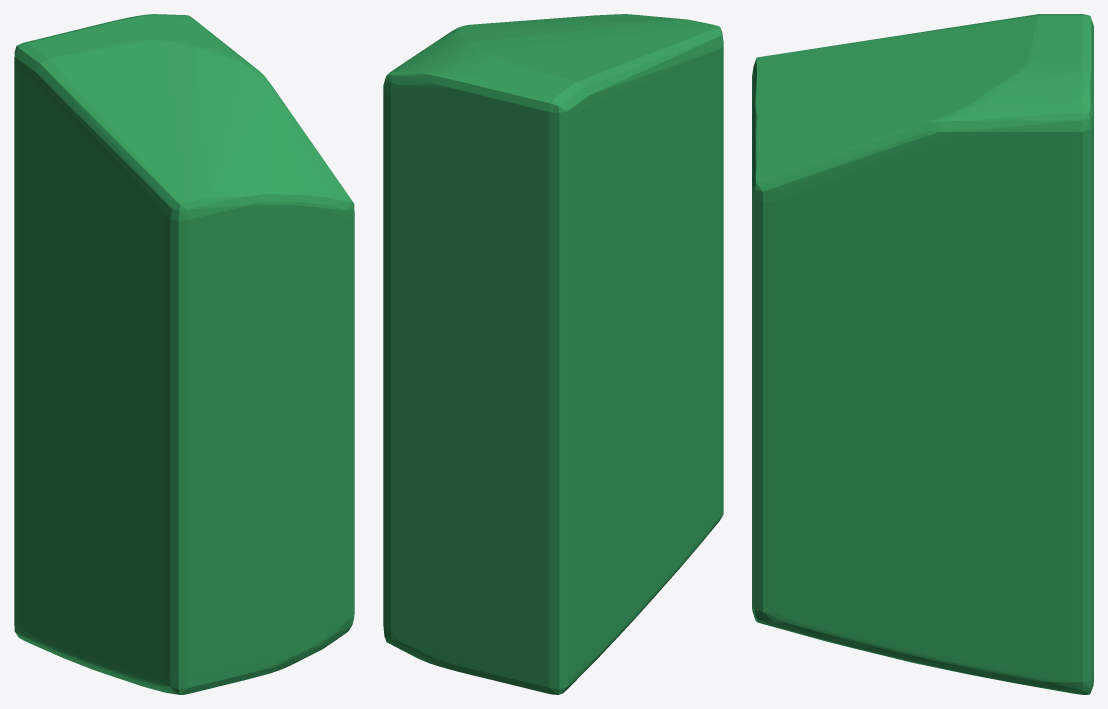
File: right_f_distal_pst_part_10.obj
The picture shows the model from 3 angles, left to right: view 1: azimuth 30°, elevation 25°; view 2: azimuth 150°, elevation 25°; view 3: azimuth 270°, elevation 25°; orthographic projection. The views are drawn at different scales.
Size of the model in its own units: 4.54 by 13.95 by 7.08.
